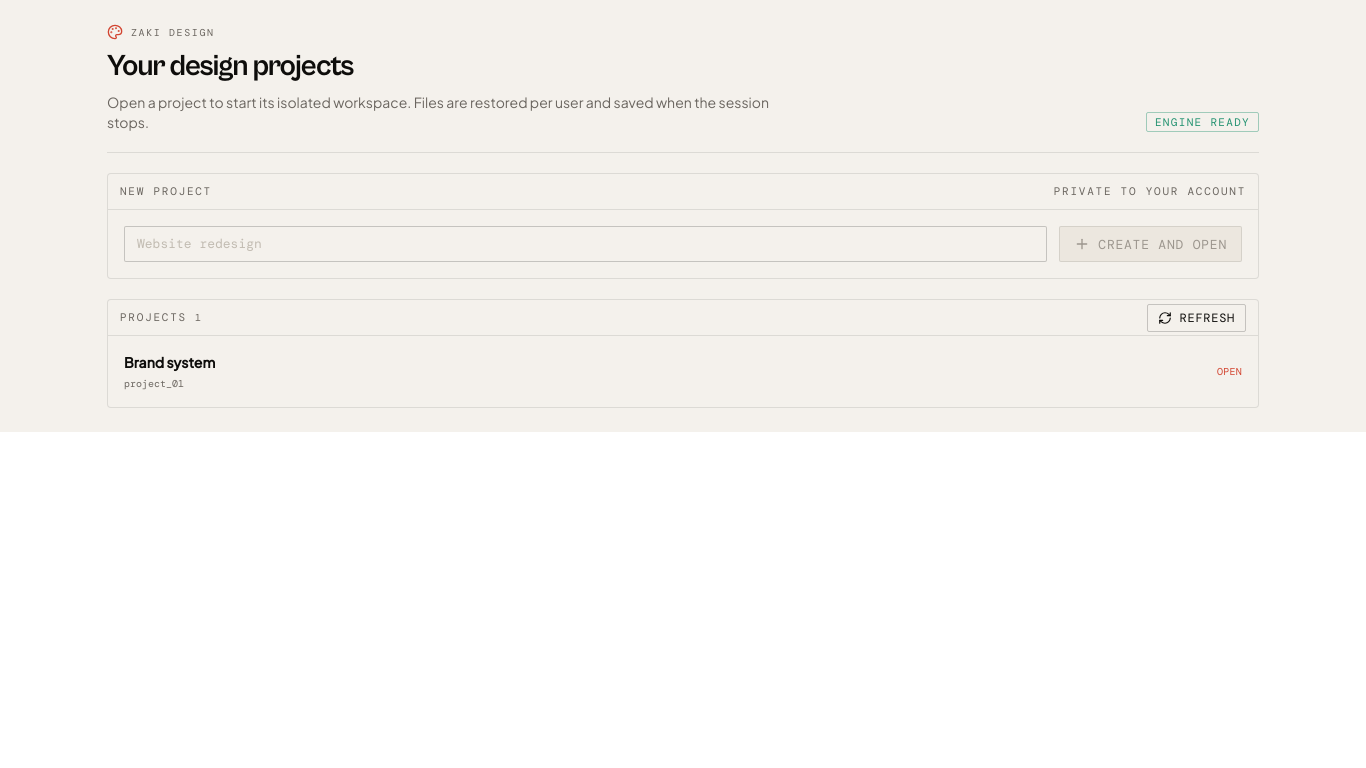
Test case: DesignPage hosted lifecycle › offers a safe retry when the admitted worker is already stopped
This screenshot has width=1366, height=768.
Step 1. Click the button "Brand system project_01 Open" → coordinates (170, 362), box top-left (108, 336), bottom-right (1258, 407)
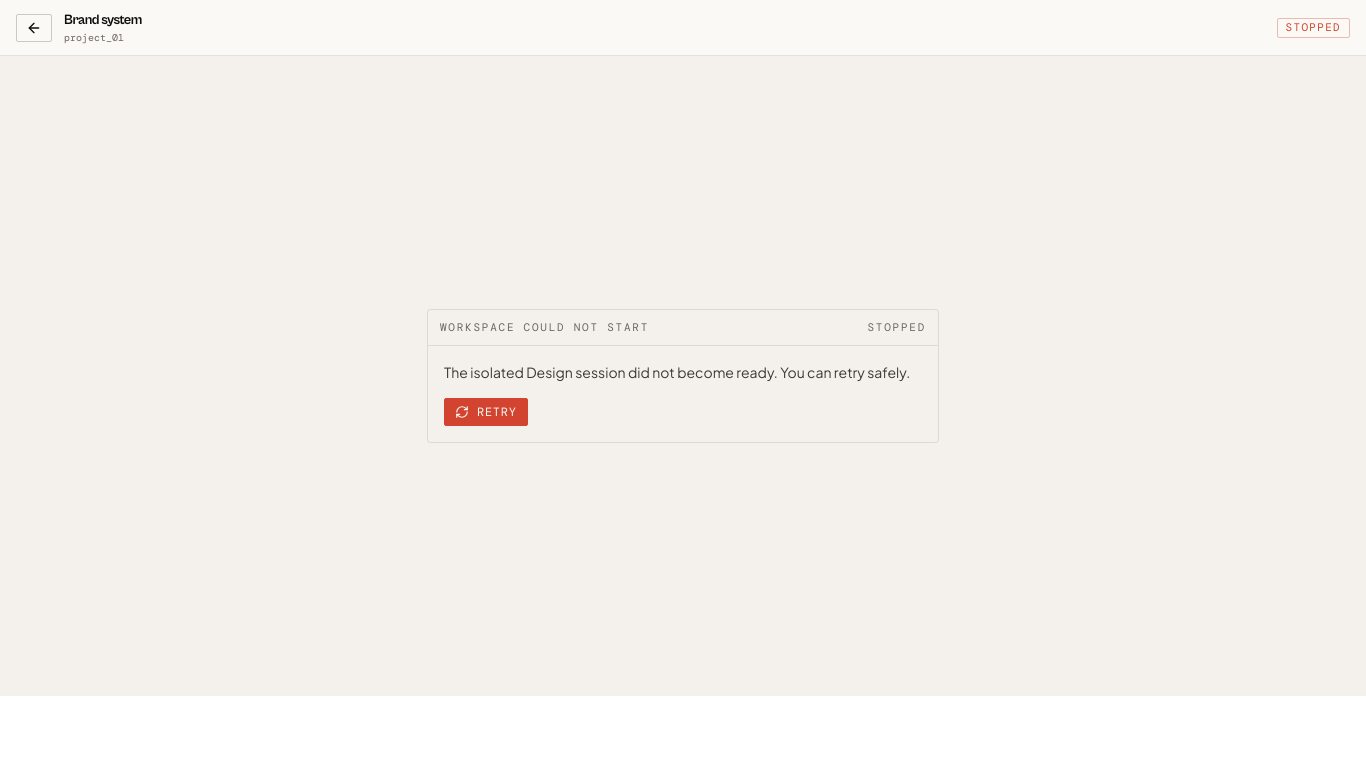
Result: the button "Retry" is shown at top-left (444, 398), bottom-right (528, 426)
